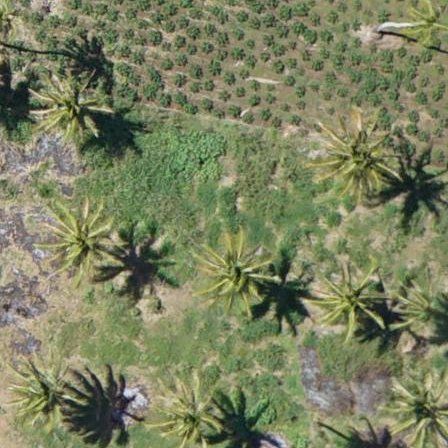palm_tree: (38, 198, 118, 278), (193, 235, 269, 314), (317, 121, 389, 194), (313, 267, 386, 337), (33, 77, 103, 148), (148, 380, 219, 447), (384, 375, 448, 448), (7, 355, 73, 425), (393, 275, 448, 339)
